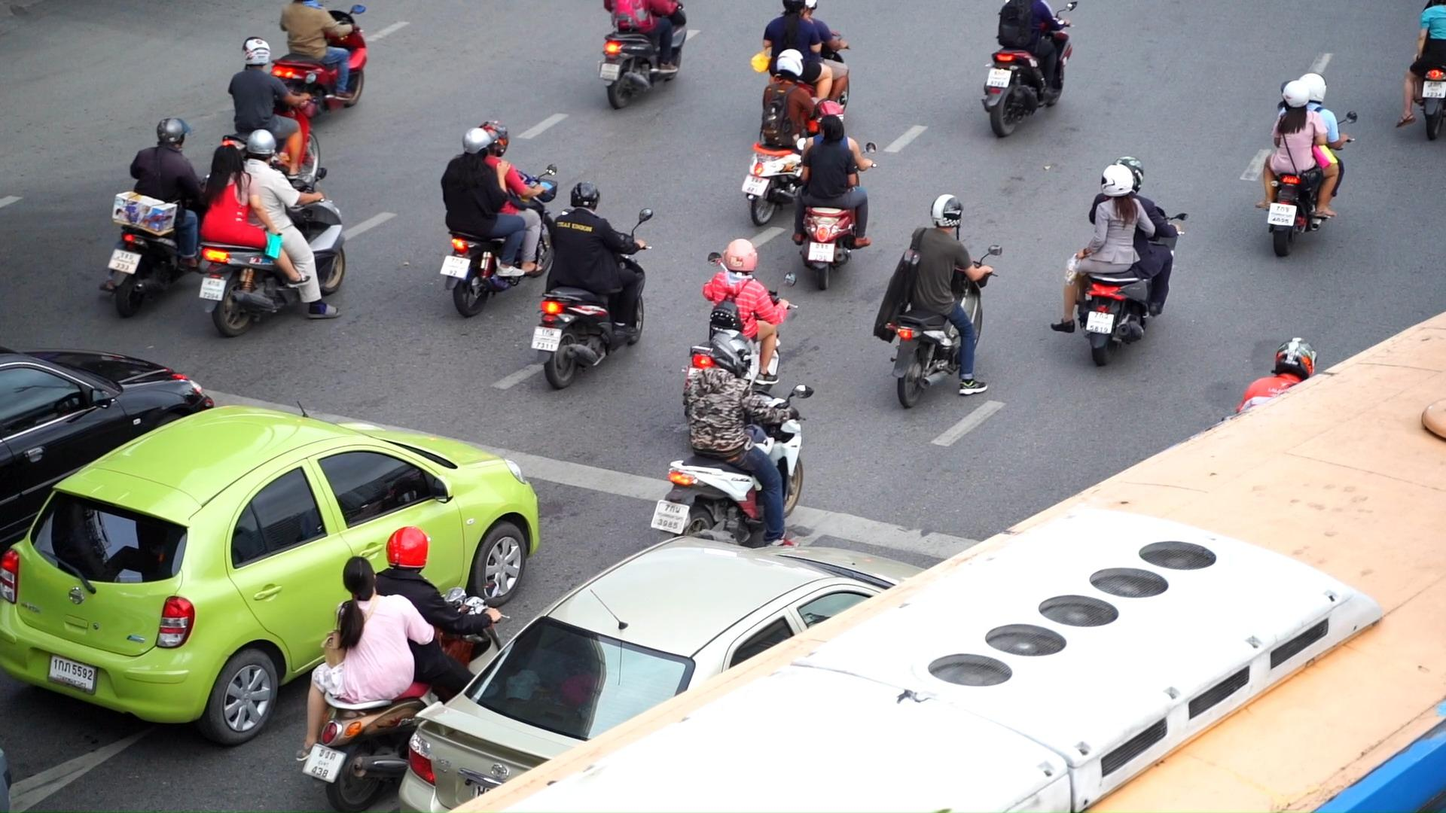driver: (296, 526, 514, 813), (650, 329, 814, 547), (198, 129, 345, 337), (1050, 156, 1189, 366), (873, 194, 1002, 408), (530, 181, 653, 389), (440, 121, 557, 318), (99, 117, 210, 317), (1255, 73, 1357, 257), (681, 238, 799, 392), (792, 99, 877, 290), (223, 36, 321, 189), (741, 49, 818, 227), (981, 0, 1077, 138), (270, 0, 367, 120), (750, 0, 850, 114), (597, 0, 687, 110), (1396, 0, 1446, 141)
helmet: (709, 329, 752, 380), (385, 526, 428, 574), (1276, 337, 1317, 381), (722, 238, 758, 273), (1113, 156, 1144, 195), (1101, 164, 1133, 201), (931, 193, 963, 229), (462, 127, 495, 161), (478, 121, 509, 157), (157, 117, 190, 150), (815, 98, 844, 134), (247, 129, 277, 162), (1280, 80, 1310, 111), (241, 36, 270, 67), (1299, 73, 1327, 105), (571, 181, 600, 211), (776, 49, 804, 80), (782, 0, 805, 17), (806, 0, 818, 17)
no-helmet: (343, 556, 376, 601), (212, 145, 244, 171), (820, 115, 844, 144)
